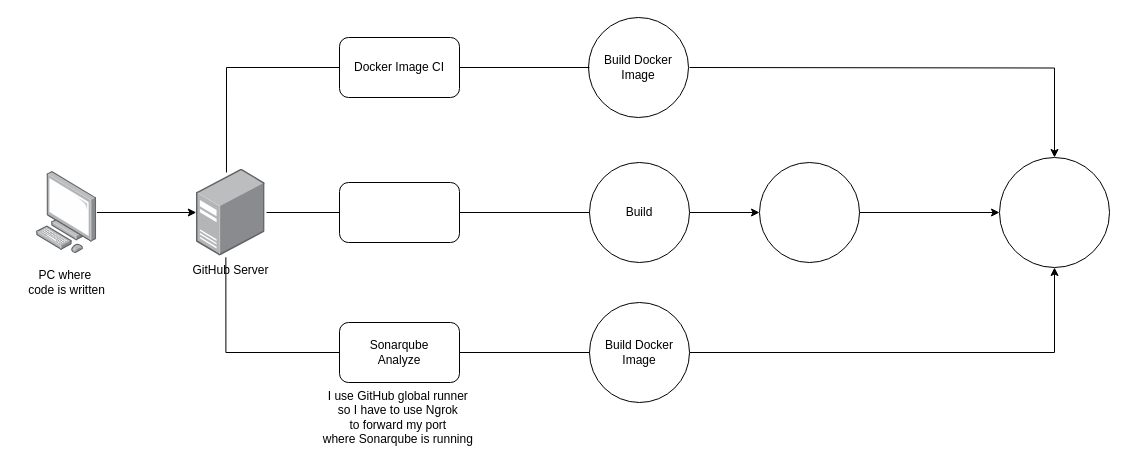
Image size: 1128x470. Some labels were removed from this diagram. The box of each missing label's shape, as (x1, y1, x2, y2) in pixels:
Java CI with Gradle: (338, 182, 460, 242)
Test: (758, 162, 860, 262)
✅ or ❌: (998, 156, 1110, 268)
